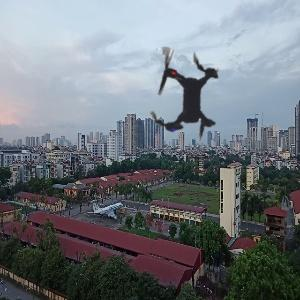drone: (111, 23, 259, 171)
